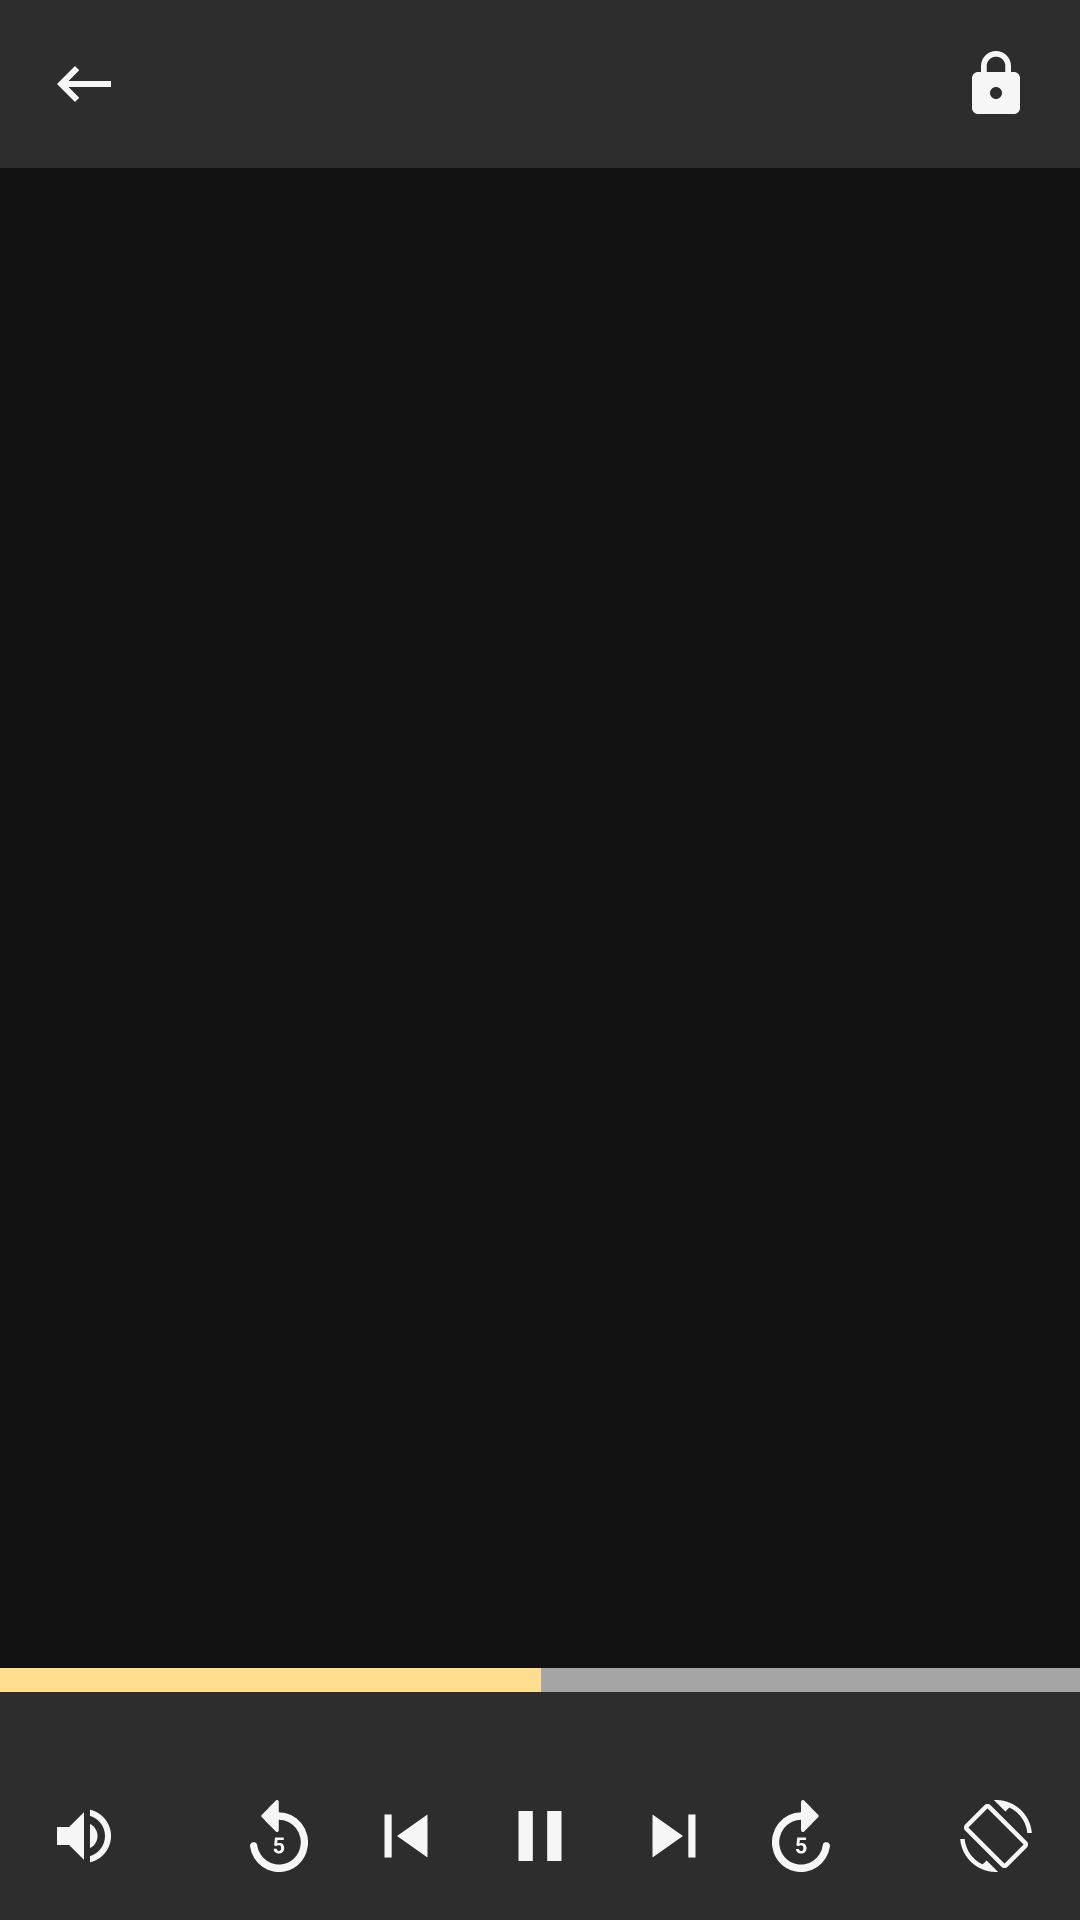

Point at icon controls on the screen. Image size 1080w x 1920h, points as point (x, y).
forward: point (801, 1836)
keyboard backspace: point (84, 84)
lock: point (996, 82)
pause: point (540, 1836)
replay: point (279, 1836)
screen rotation: point (996, 1836)
skip forward: point (674, 1836)
skip previous: point (406, 1836)
volume up: point (84, 1836)
